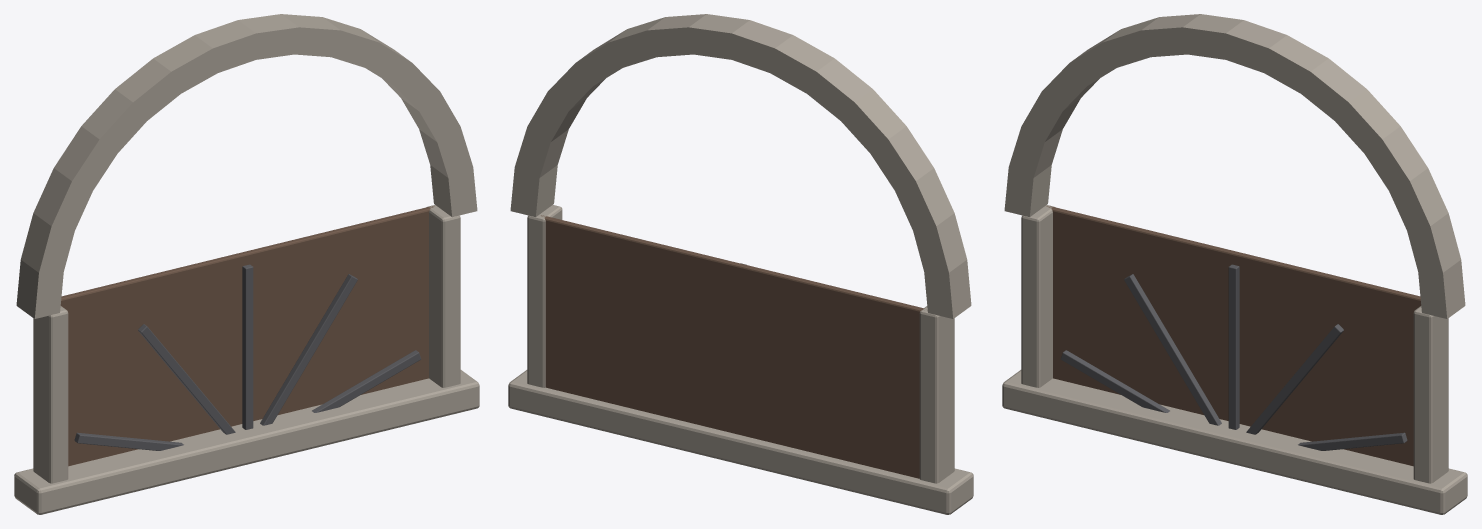
3 views of the same model, side by side, from view 1: azimuth 30°, elevation 25°; view 2: azimuth 150°, elevation 25°; view 3: azimuth 330°, elevation 25° (orthographic).
Visible parts, largest first — view 1: transomWindow; view 2: transomWindow; view 3: transomWindow.
Part boxes in pixels (bbox=[...]): transomWindow: bbox=[14, 14, 479, 514]; transomWindow: bbox=[508, 14, 973, 514]; transomWindow: bbox=[1002, 14, 1467, 514].
Size of the model in its own units: 1.4 by 1.29 by 0.14.
